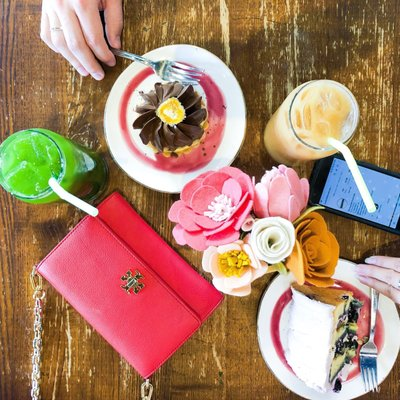pizza: (263, 79, 363, 166)
salad: (0, 128, 108, 218), (114, 49, 203, 86)
sushi: (104, 44, 247, 194)
